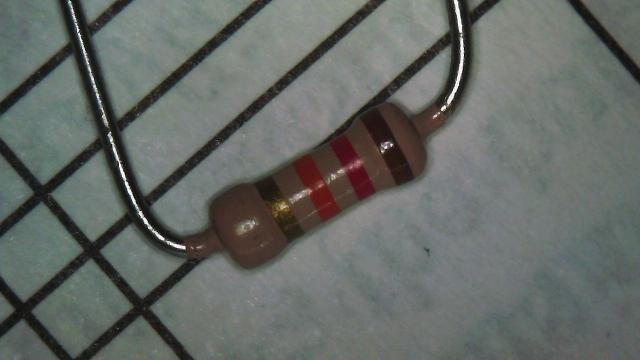brown: (362, 109, 414, 185)
gold: (256, 175, 304, 242)
orange: (294, 154, 340, 220)
red: (330, 134, 374, 200)
resistor: (183, 71, 455, 314)
